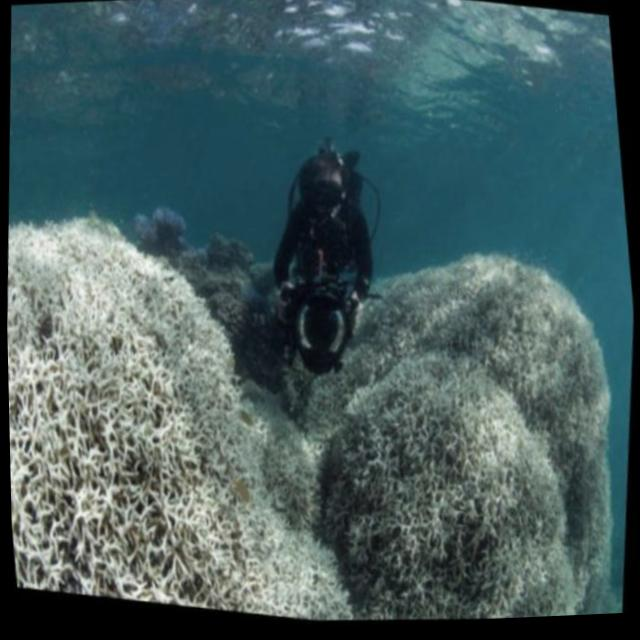Dead Coral: (275, 206, 640, 631)
